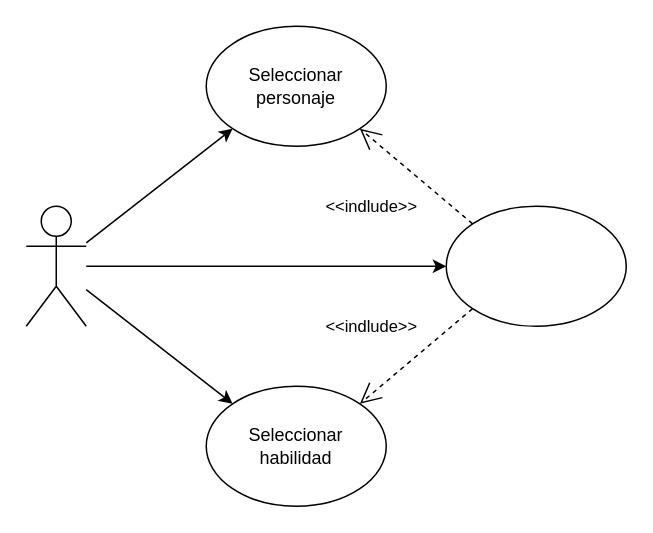
Image size: 653x533. Some labels were removed from this diagram. Each missing label, with the box of its shape:
Calcular resultado: (445, 205, 626, 326)
Usuario: (25, 205, 86, 326)
